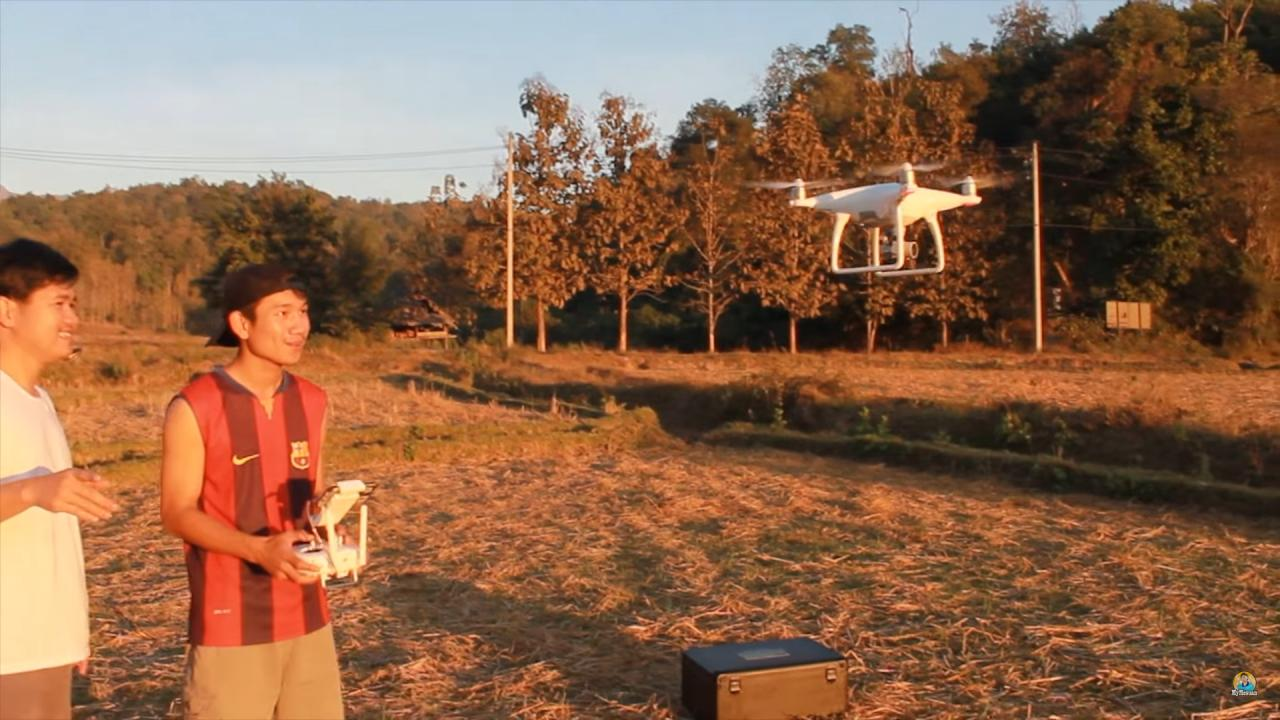Drone: (731, 149, 1026, 293)
